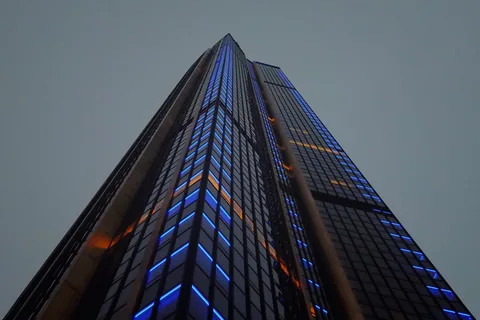high_rise_building: (165, 31, 363, 317)
